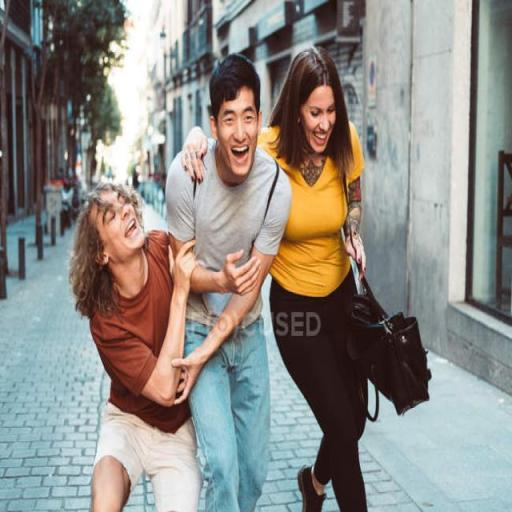person: (165, 51, 291, 512), (256, 41, 373, 512), (68, 187, 202, 512)
